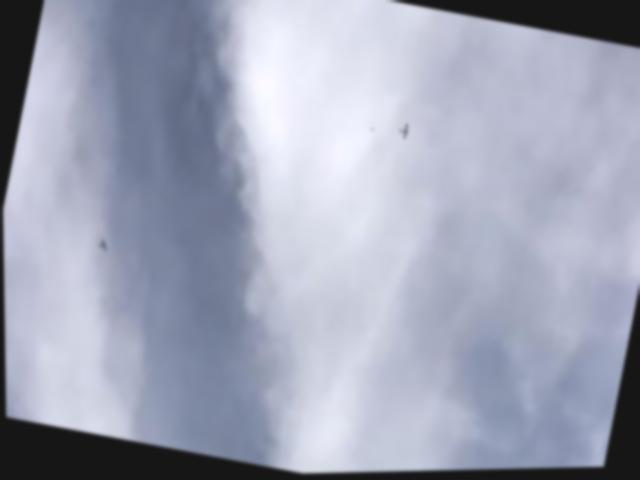uav: (394, 121, 411, 144), (96, 235, 109, 252)
